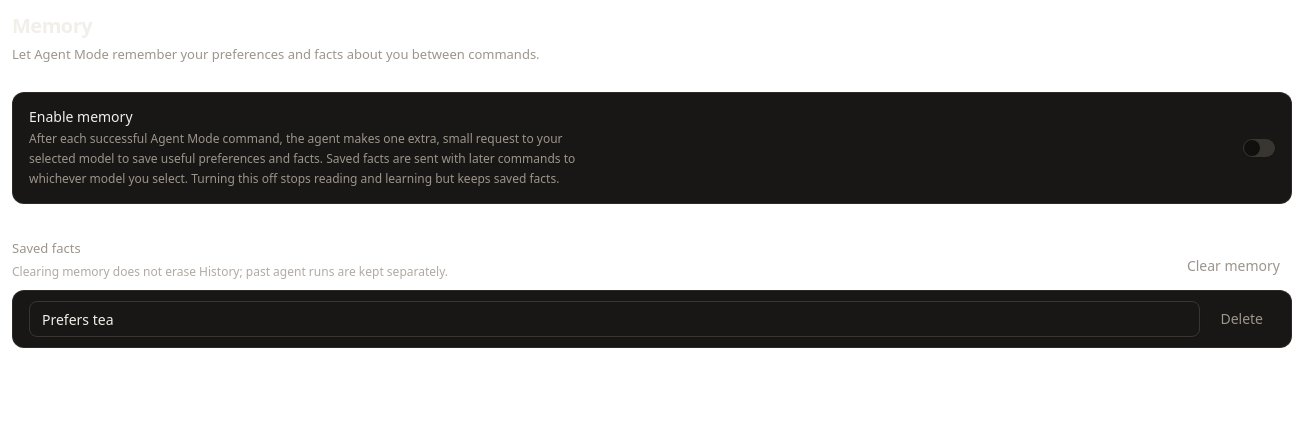
Scenario: MemorySettings › keeps the draft and reloads after a stale or failed save
Step 1. Replace the text in the field named "Fact 1" with "Prefers green tea" → (615, 319), box [29,301,1200,337]
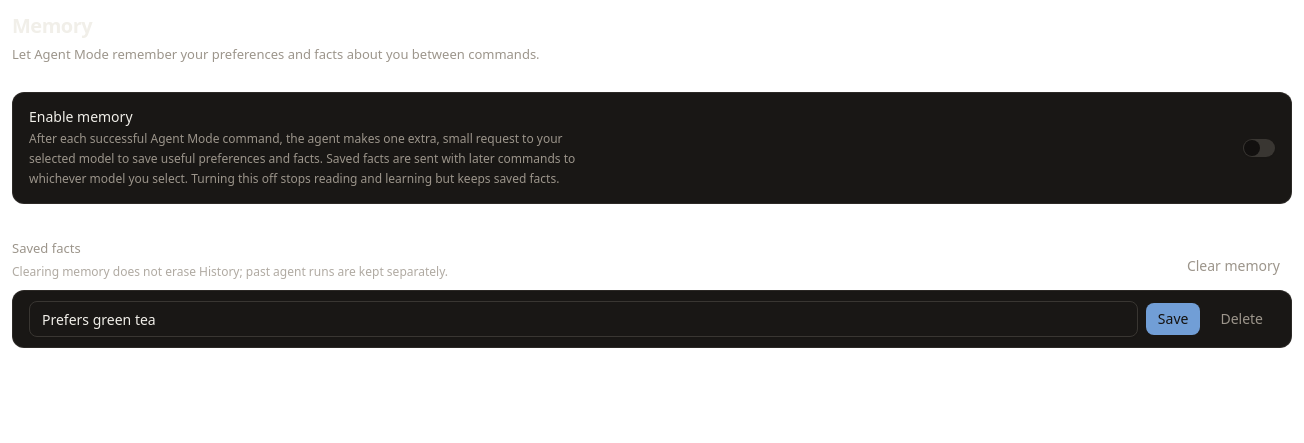
Step 2. Click the button "Save" → (1173, 319), box [1146,303,1200,335]
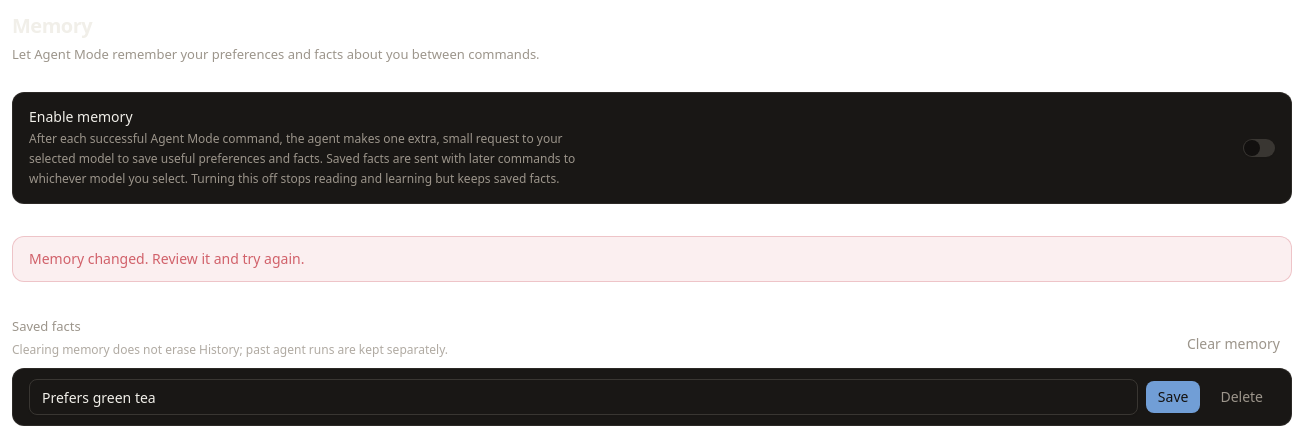
Result: the message reads "Memory changed. Review it and try again." at [29,249,304,268]
